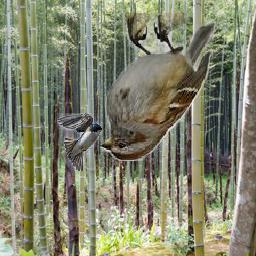Sparrow: (101, 13, 216, 161)
Swallow: (58, 113, 103, 171)
